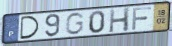0: (88, 9, 107, 35)
9: (44, 13, 62, 38)
D: (20, 15, 42, 41)
F: (131, 6, 153, 31)
G: (64, 11, 86, 36)
H: (108, 6, 131, 34)
